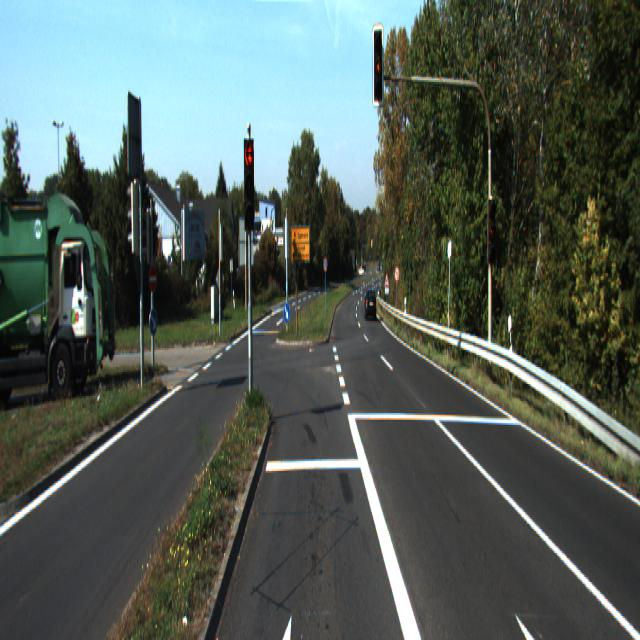Car: (0, 190, 120, 401), (364, 289, 376, 319)
